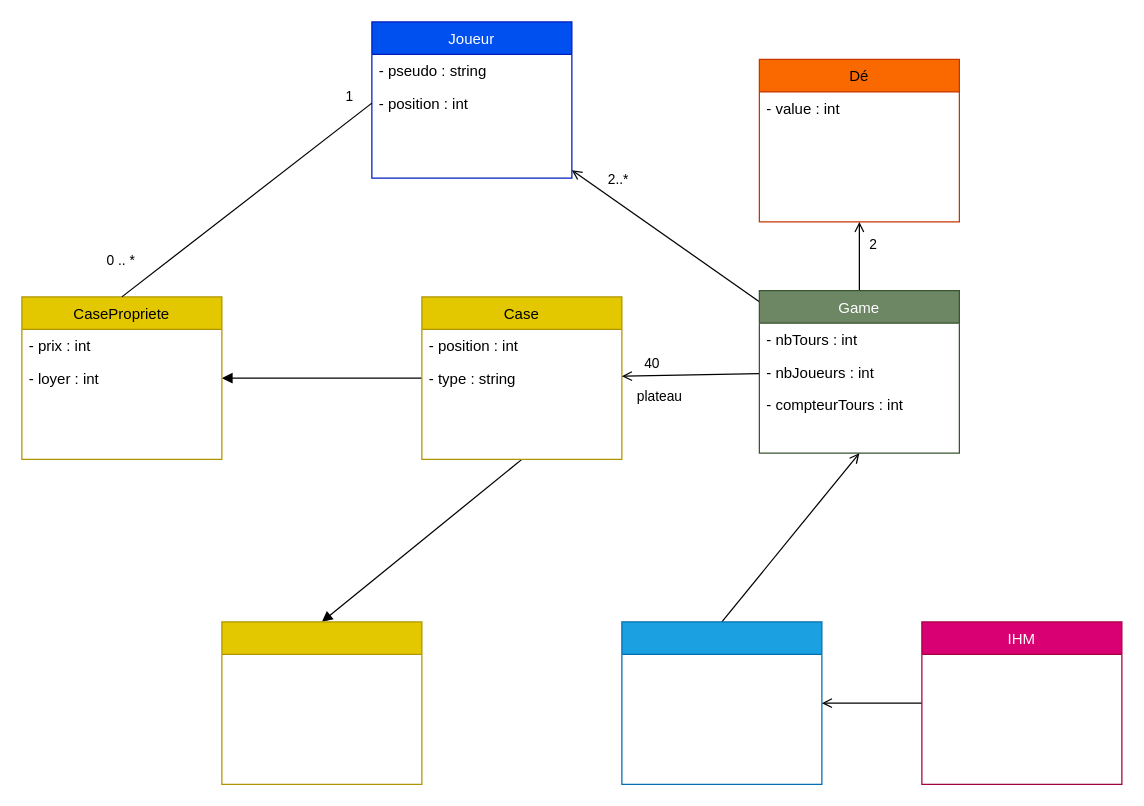
This 1144x806 diagram has some shape labels left out. The shapes that lost their labels are listed below. From the top down, each one's centre as x and y in pixels, then its label:
(x=321, y=702): CaseSpeciale
(x=721, y=702): CtrlJeu
